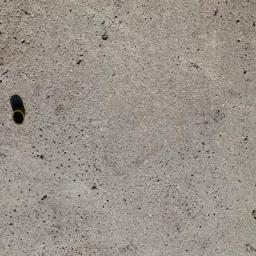FOD: (10, 92, 33, 128)
